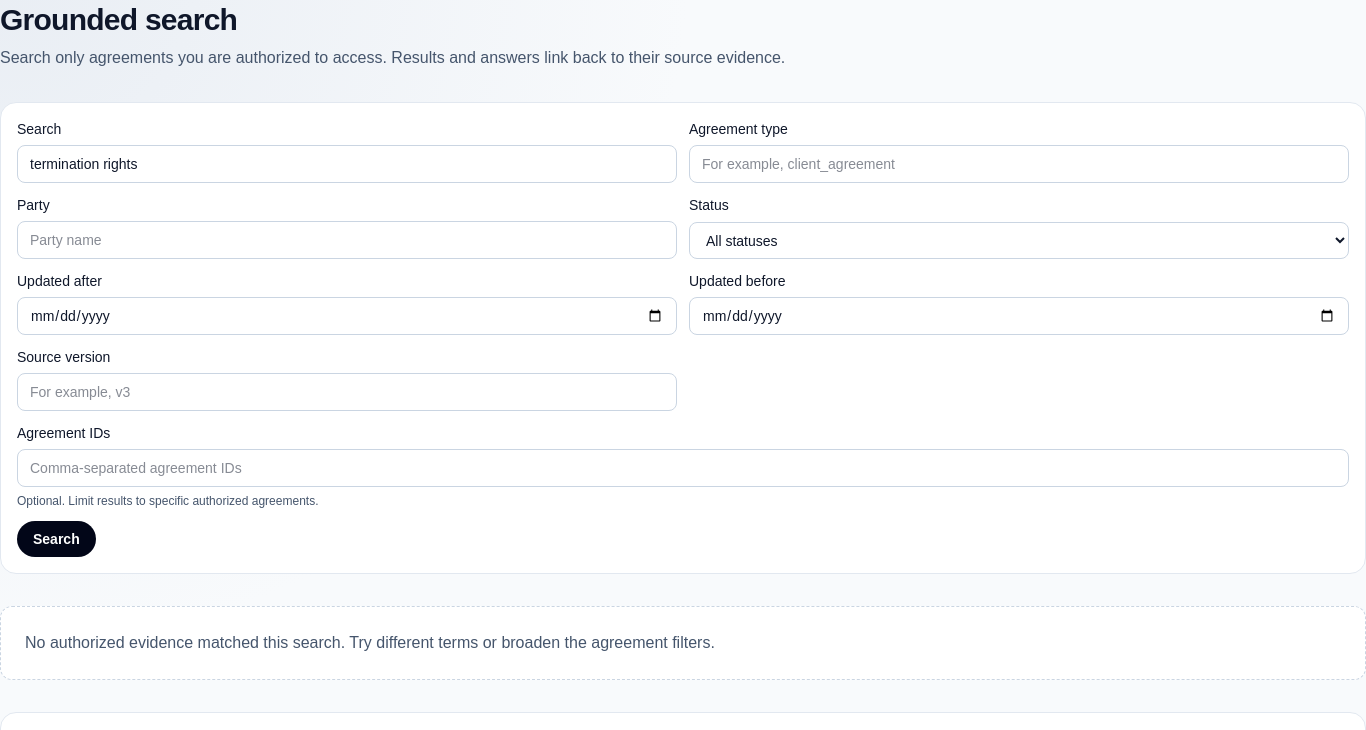
it: SearchWorkspace › creates a new scoped question thread after restarting a search
Replace the text in the search field labelled "Search" with "notice period" at (347, 164), box left=17, top=145, right=677, bottom=183
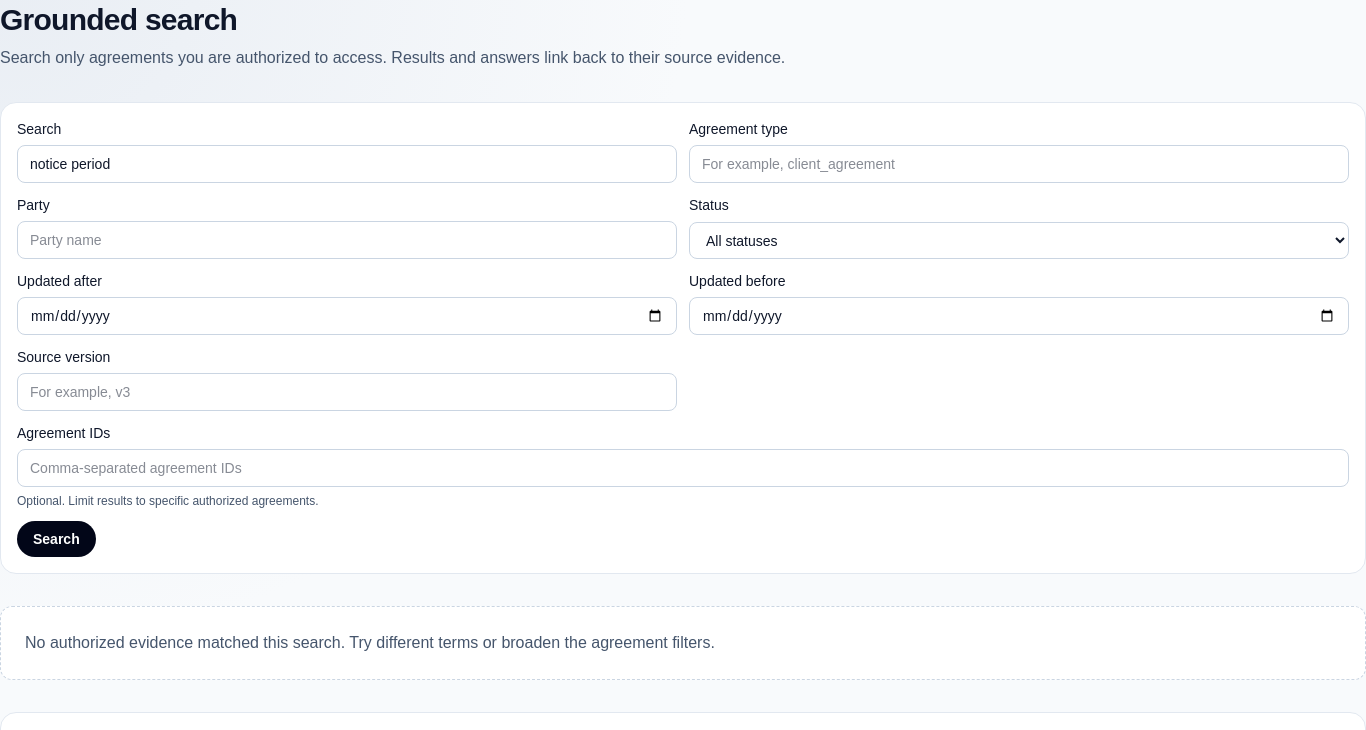
Type "55555555-5555-5555-5555-555555555555, 66666666-6666-6666-6666-666666666666" into the field labelled "Agreement IDs".
click(683, 468); type("55555555-5555-5555-5555-555555555555, 66666666-6666-6666-6666-666666666666")  # box left=17, top=449, right=1349, bottom=487
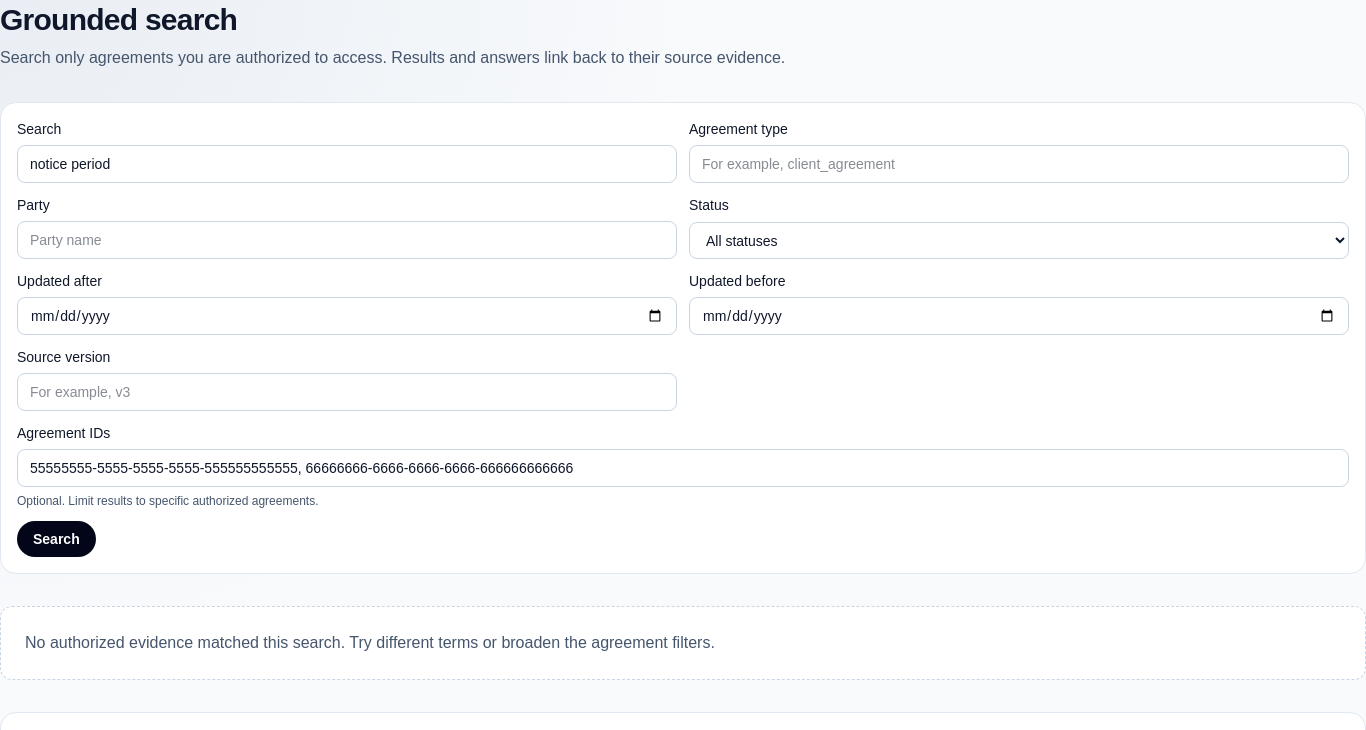
Click the button "Search".
click(56, 539)  # box left=17, top=521, right=96, bottom=557
(page scrolled)
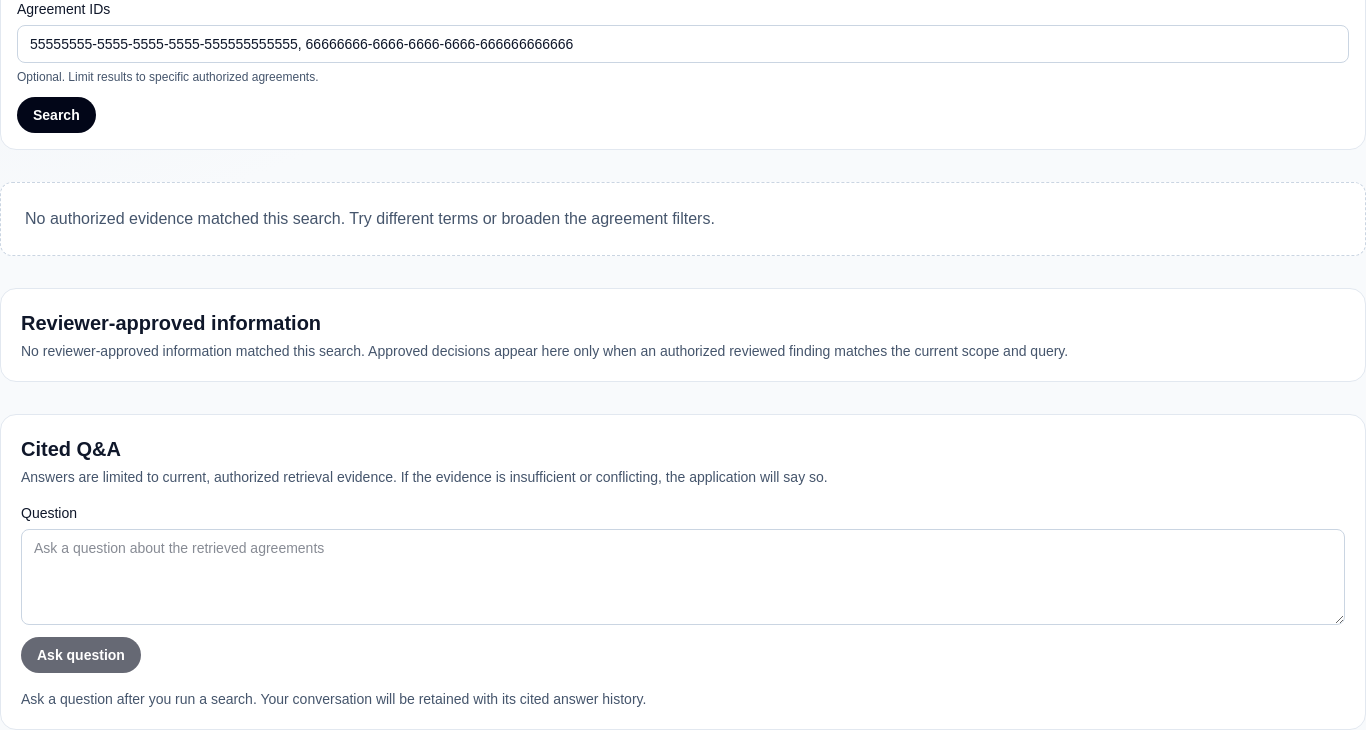
Type "What are the termination rights?" into the text box labelled "Question".
click(683, 577); type("What are the termination rights?")  # box left=21, top=529, right=1345, bottom=625
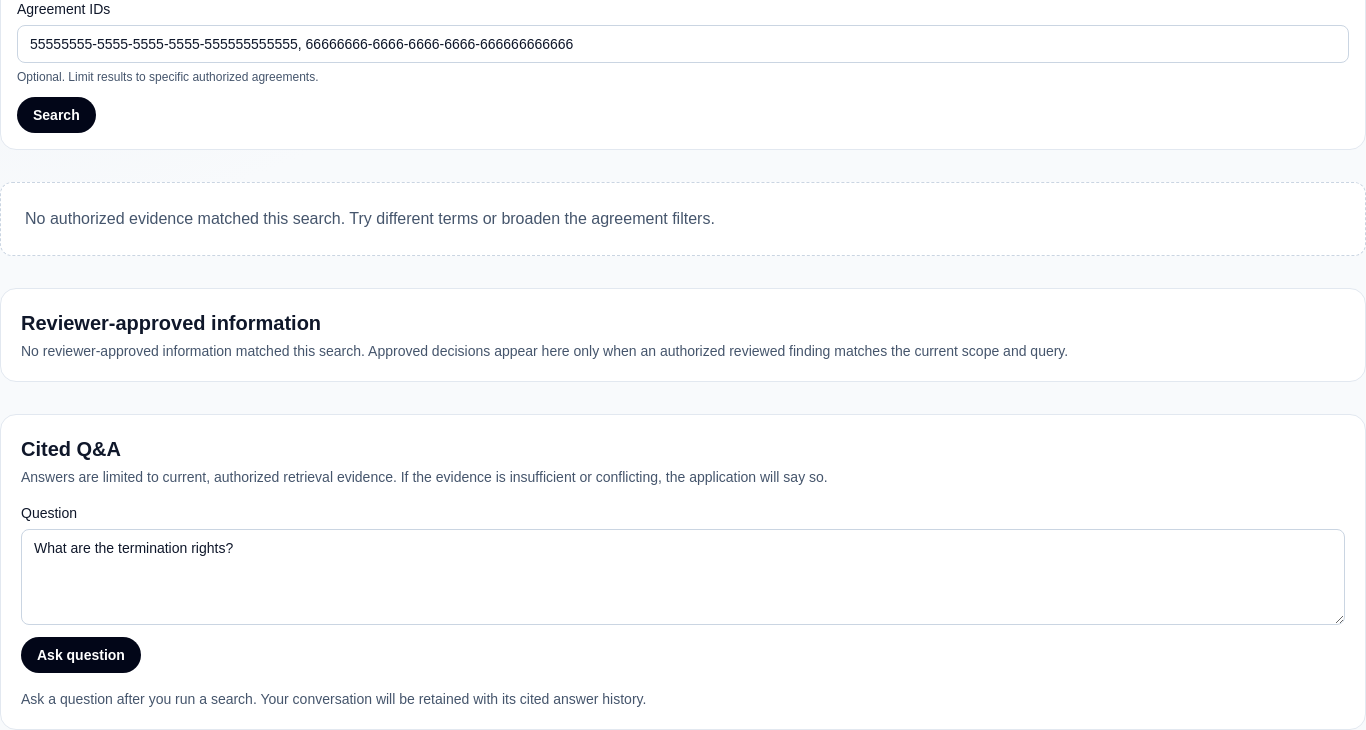
Click the button "Ask question".
click(81, 655)  # box left=21, top=637, right=141, bottom=673
(page scrolled)
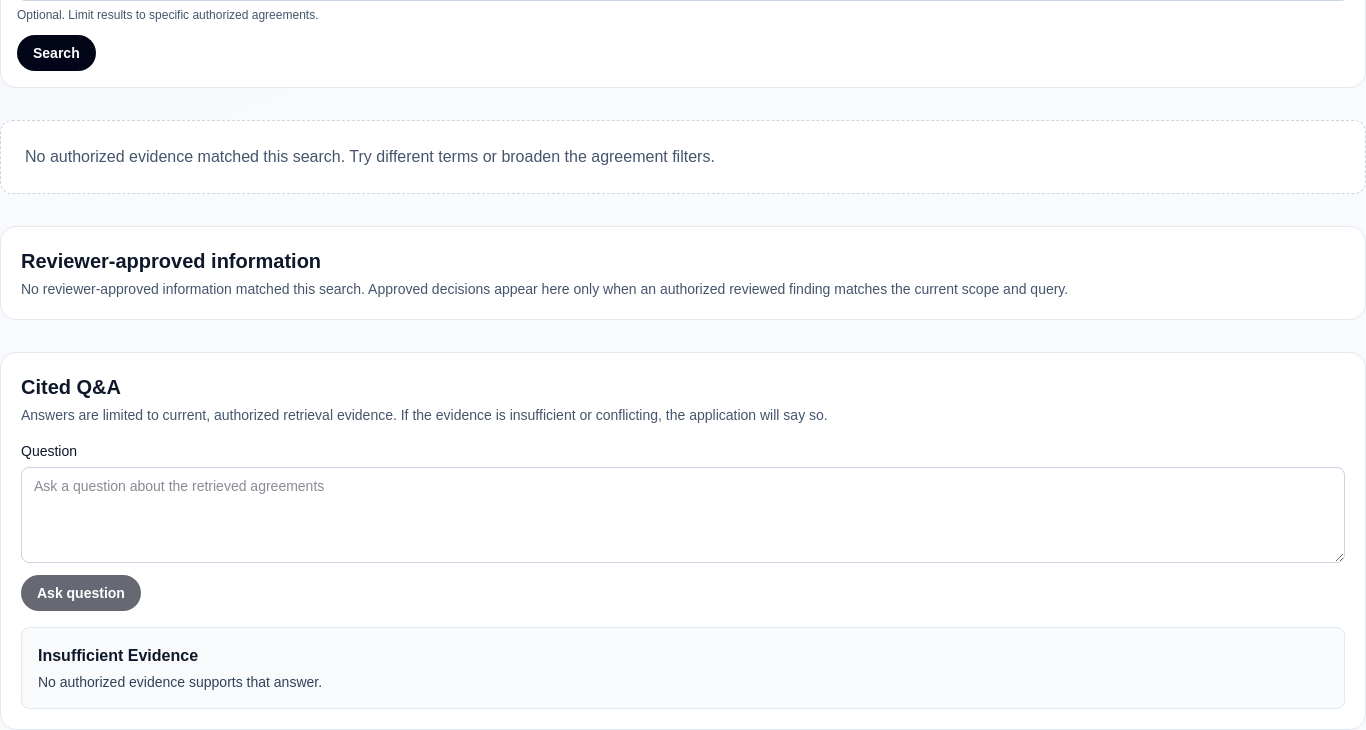
expect the text "No authorized evidence supports that answer." is shown: met, box left=38, top=674, right=322, bottom=690
